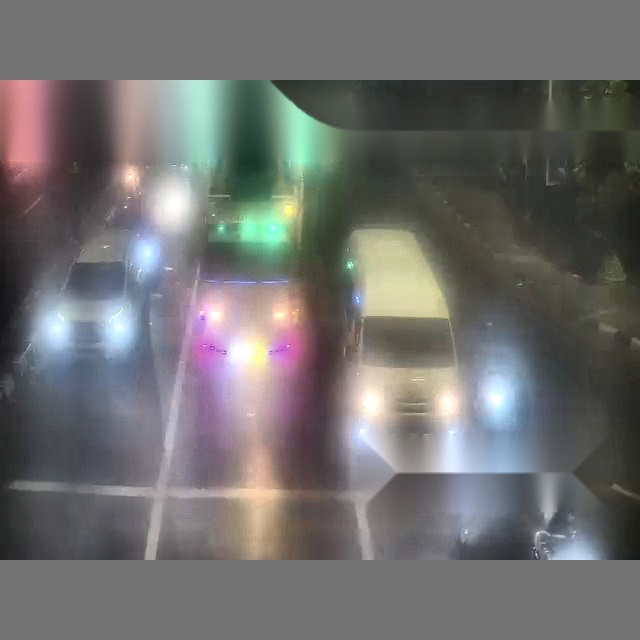Truk: (204, 80, 309, 248), (0, 80, 62, 192)
